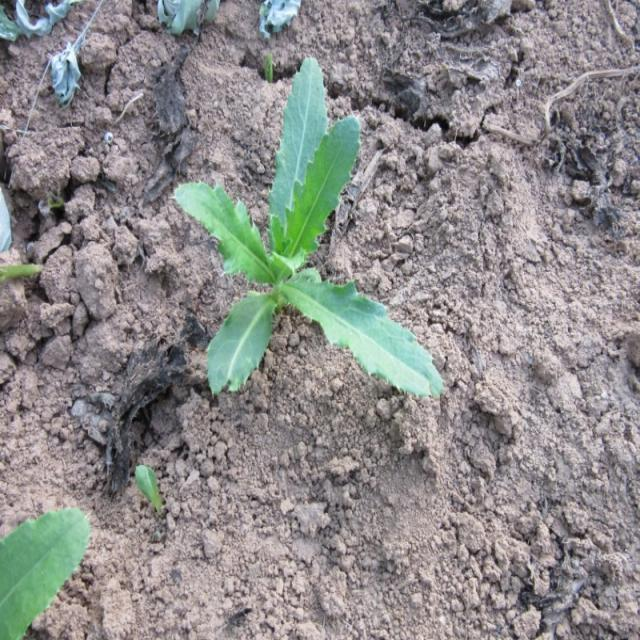cs: (171, 54, 445, 401)
